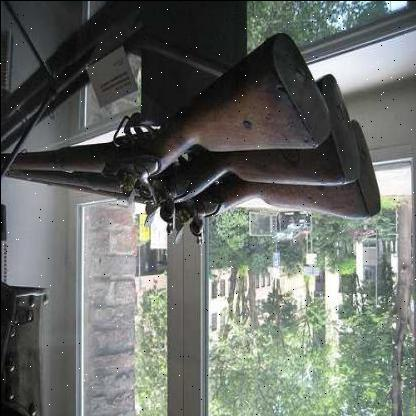rifle: (1, 47, 317, 188)
